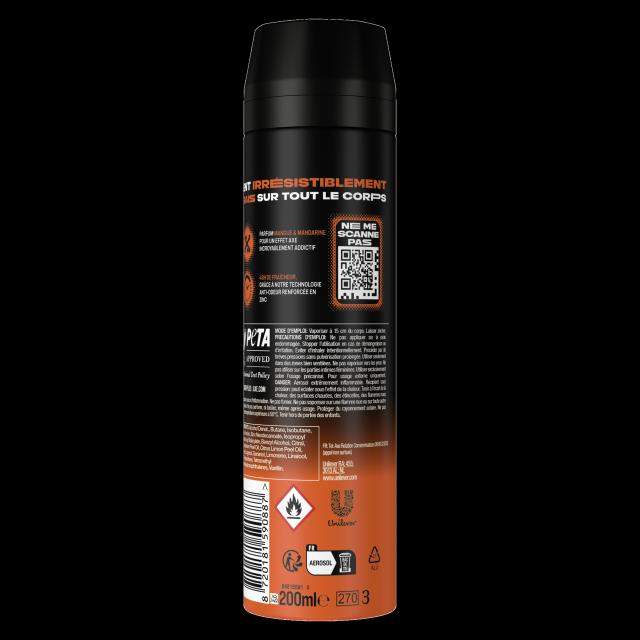GHS_Symbol_FLAME: (276, 482, 316, 532)
